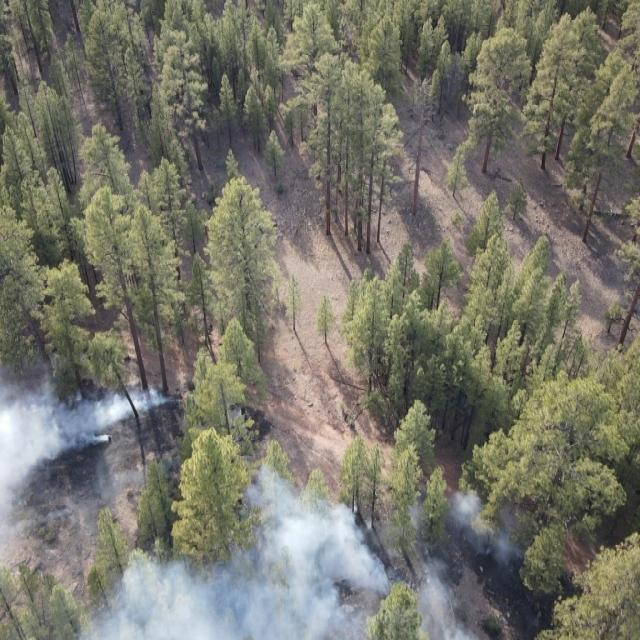fire: (139, 395, 152, 406)
smoke: (243, 467, 523, 640), (0, 373, 179, 534), (125, 550, 244, 640), (80, 590, 126, 640)
